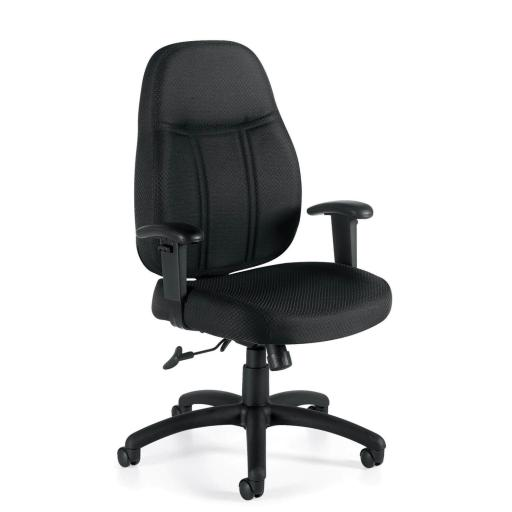chair: (118, 40, 392, 500)
